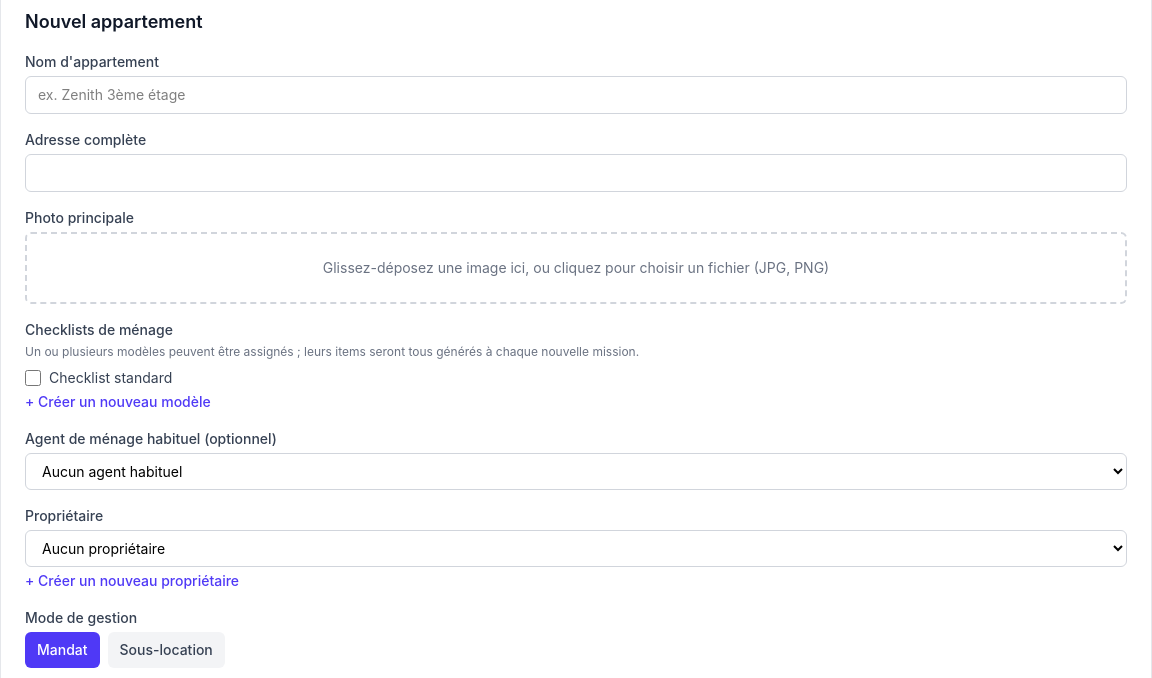
Test: NouvelAppartementForm › permet de créer un nouveau propriétaire à la volée et le sélectionne
This screenshot has width=1152, height=678.
Click the button "+ Créer un nouveau propriétaire" at (132, 581), box top-left (25, 571), bottom-right (239, 591)
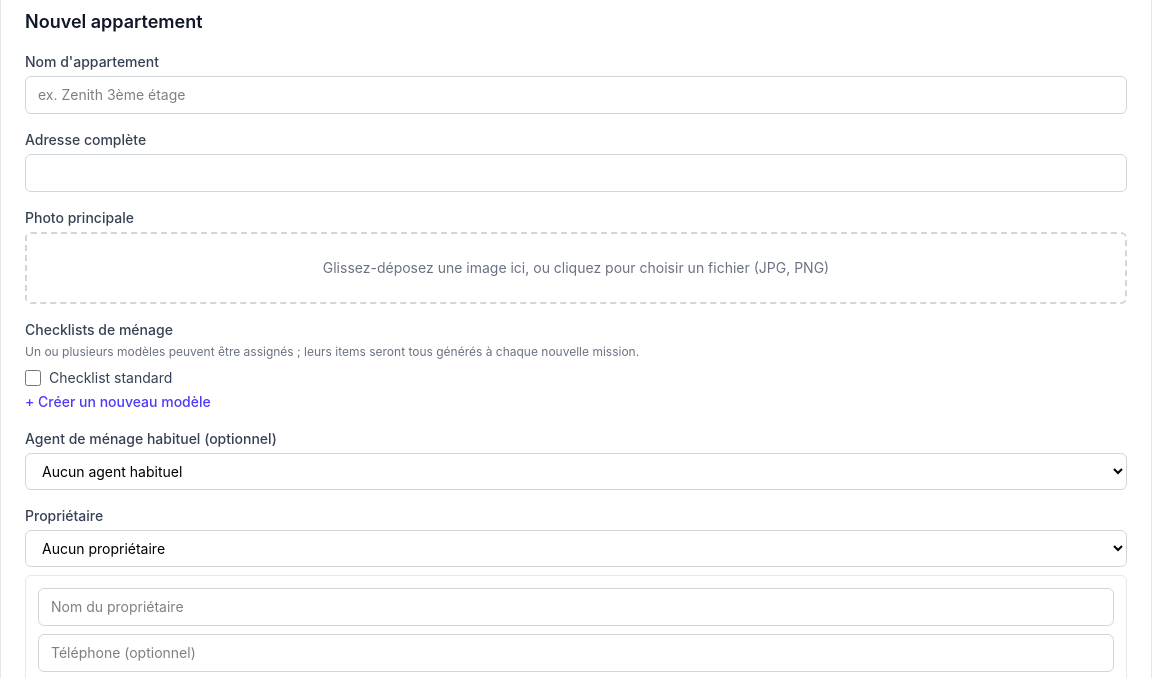
Type "Sara Bennani" into the field with placeholder "Nom du propriétaire" at (576, 607), box top-left (38, 588), bottom-right (1114, 626)
(page scrolled)
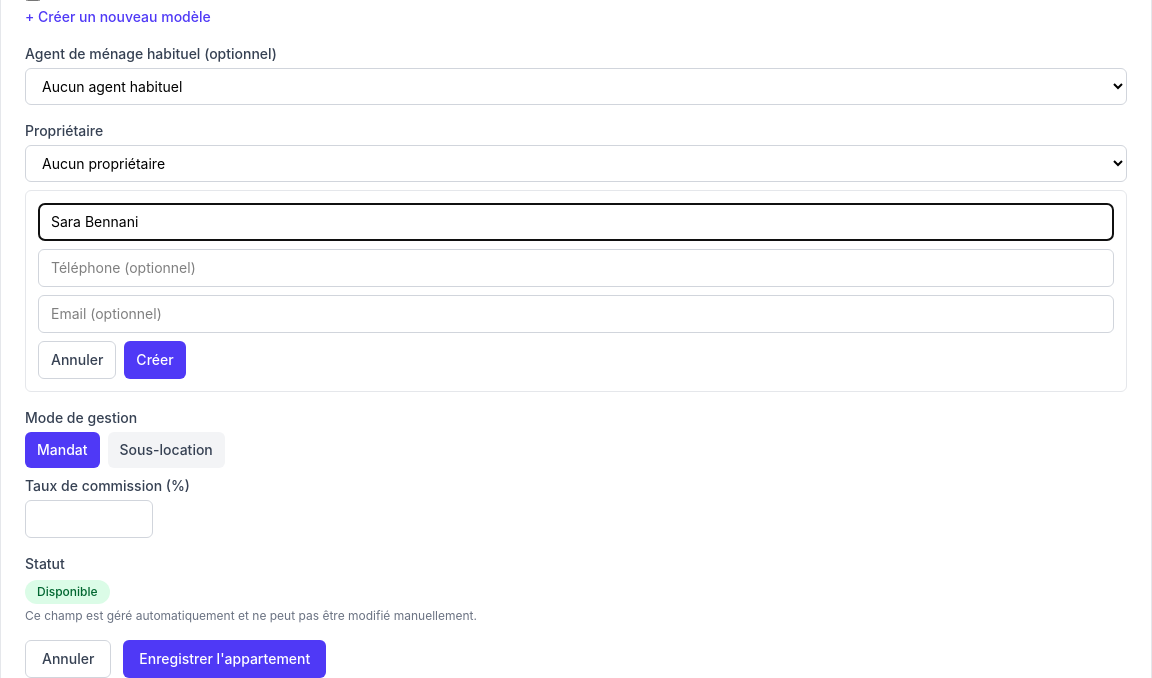
Click the button "Créer" at (155, 360), box top-left (124, 341), bottom-right (186, 379)
(page scrolled)
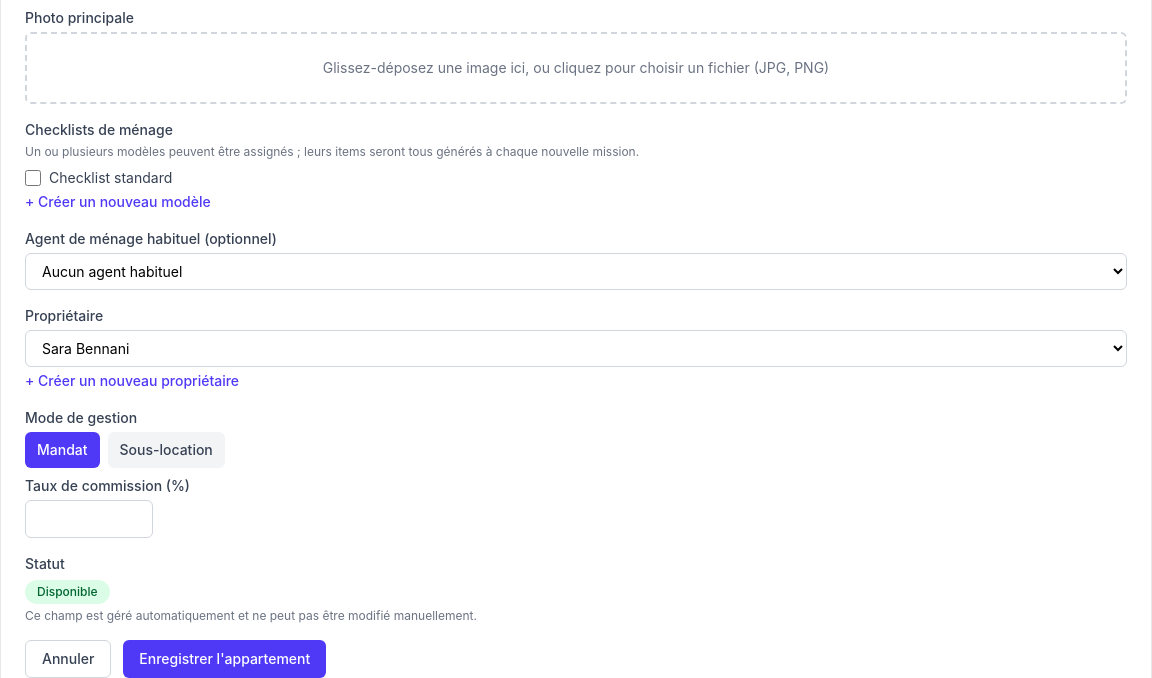
expect the dropdown labelled "Propriétaire" shows "Sara Bennani": met, box top-left (25, 330), bottom-right (1127, 367)
